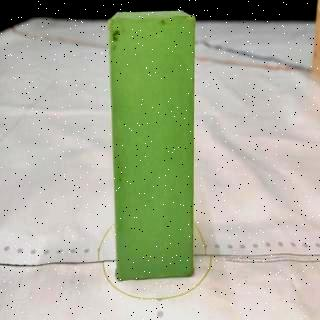greenbox: (110, 8, 198, 282)
